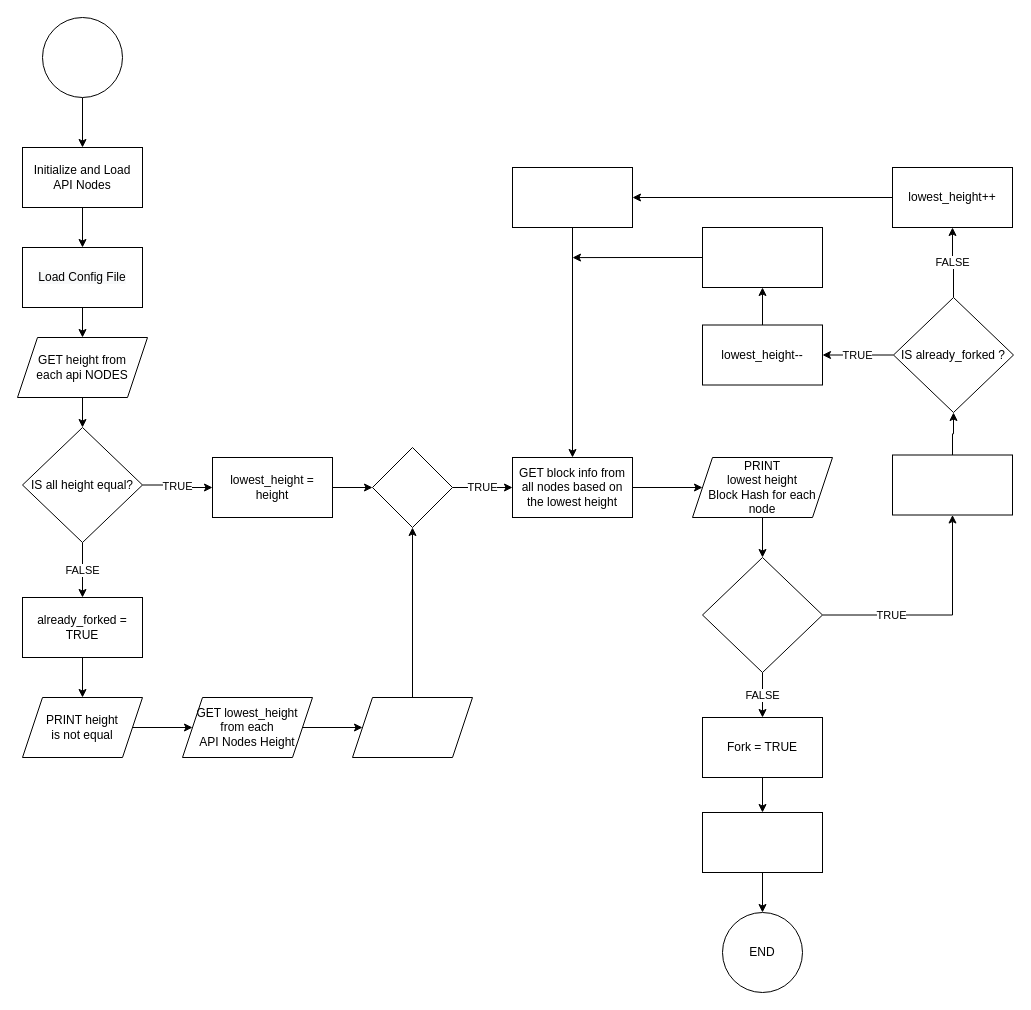
Image size: 1031x1010. Some labels were removed from this diagram. Here are the shapes that lost their labels. From the top down, the centre of each, then its label:
At point 82,57: "START".
At point 572,197: "Sleep for 30 seconds".
At point 762,257: "Sleep for 5 Seconds".
At point 412,487: "WHILE".
At point 952,484: "Fork = False".
At point 762,614: "IS all block hash equal ?".
At point 412,727: "PRINT Height is Different, Chain is Forked".
At point 762,842: "Send Alert to Telegram via Bot".
